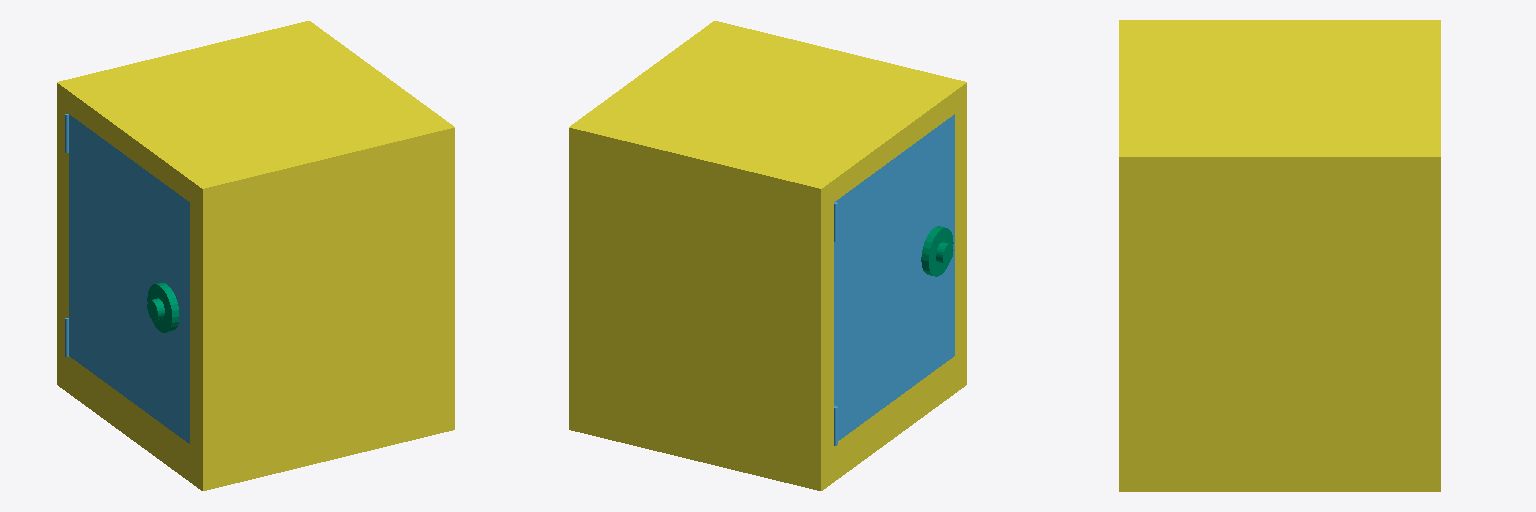
robot.urdf — partnet_019dff2f-8207-4ddf-8255-871060cd4bf6:
<?xml version="1.0" ?>
<robot name="partnet_019dff2f-8207-4ddf-8255-871060cd4bf6">
	<link name="base"/>
	<link name="link_0">
		<visual name="door-1">
			<origin xyz="0.4585415 0 -0.5808095"/>
			<geometry>
				<mesh filename="textured_objs/original-7.obj"/>
			</geometry>
		</visual>
		<visual name="door-1">
			<origin xyz="0.4585415 0 -0.5808095"/>
			<geometry>
				<mesh filename="textured_objs/original-6.obj"/>
			</geometry>
		</visual>
		<visual name="door-1">
			<origin xyz="0.4585415 0 -0.5808095"/>
			<geometry>
				<mesh filename="textured_objs/original-8.obj"/>
			</geometry>
		</visual>
		<collision>
			<origin xyz="0.4585415 0 -0.5808095"/>
			<geometry>
				<mesh filename="textured_objs/original-7.obj"/>
			</geometry>
		</collision>
		<collision>
			<origin xyz="0.4585415 0 -0.5808095"/>
			<geometry>
				<mesh filename="textured_objs/original-6.obj"/>
			</geometry>
		</collision>
		<collision>
			<origin xyz="0.4585415 0 -0.5808095"/>
			<geometry>
				<mesh filename="textured_objs/original-8.obj"/>
			</geometry>
		</collision>
	</link>
	<joint name="joint_0" type="revolute">
		<origin xyz="-0.4585415 0 0.5808095"/>
		<axis xyz="0 -1 0"/>
		<child link="link_0"/>
		<parent link="link_2"/>
		<limit lower="0.0" upper="3.141592653589793"/>
	</joint>
	<link name="link_1">
		<visual name="switch-5">
			<origin xyz="-0.3103190281377981 -0.048701999999999995 0"/>
			<geometry>
				<mesh filename="textured_objs/original-9.obj"/>
			</geometry>
		</visual>
		<collision>
			<origin xyz="-0.3103190281377981 -0.048701999999999995 0"/>
			<geometry>
				<mesh filename="textured_objs/original-9.obj"/>
			</geometry>
		</collision>
	</link>
	<joint name="joint_1" type="continuous">
		<origin xyz="0.768860528137798 0.048701999999999995 -0.5808095"/>
		<axis xyz="0 0 1"/>
		<child link="link_1"/>
		<parent link="link_0"/>
	</joint>
	<link name="link_2">
		<visual name="base_body-6">
			<origin xyz="0 0 0"/>
			<geometry>
				<mesh filename="textured_objs/original-4.obj"/>
			</geometry>
		</visual>
		<visual name="base_body-6">
			<origin xyz="0 0 0"/>
			<geometry>
				<mesh filename="textured_objs/original-3.obj"/>
			</geometry>
		</visual>
		<visual name="base_body-6">
			<origin xyz="0 0 0"/>
			<geometry>
				<mesh filename="textured_objs/original-1.obj"/>
			</geometry>
		</visual>
		<collision>
			<origin xyz="0 0 0"/>
			<geometry>
				<mesh filename="textured_objs/original-4.obj"/>
			</geometry>
		</collision>
		<collision>
			<origin xyz="0 0 0"/>
			<geometry>
				<mesh filename="textured_objs/original-3.obj"/>
			</geometry>
		</collision>
		<collision>
			<origin xyz="0 0 0"/>
			<geometry>
				<mesh filename="textured_objs/original-1.obj"/>
			</geometry>
		</collision>
	</link>
	<joint name="joint_2" type="fixed">
		<origin rpy="1.570796326794897 0 -1.570796326794897" xyz="0 0 0"/>
		<child link="link_2"/>
		<parent link="base"/>
	</joint>
</robot>

--- Render facts (derived) ---
3 views of the same robot in one strip: view 1: azimuth 30°, elevation 25°; view 2: azimuth 150°, elevation 25°; view 3: azimuth 270°, elevation 25° (orthographic).
Model partnet_019dff2f-8207-4ddf-8255-871060cd4bf6 with 4 links and 3 joints (1 revolute, 1 continuous, 1 fixed), rooted at base, posed every joint at zero.
Links seen in each view (by area): view 1: link_2, link_0, link_1; view 2: link_2, link_0, link_1; view 3: link_2.
Link boxes in pixels (left/top/right/bottom): link_2: left=57, top=21, right=454, bottom=490; link_0: left=65, top=114, right=189, bottom=443; link_1: left=147, top=283, right=179, bottom=332; link_2: left=569, top=21, right=966, bottom=490; link_0: left=834, top=114, right=954, bottom=445; link_1: left=921, top=226, right=953, bottom=276; link_2: left=1119, top=20, right=1440, bottom=491.
Size in the robot's own frame: 1.2 by 1.13 by 1.3 metres.
Meshes: 7 distinct files referenced, 7 mesh visuals loaded (7 OBJ).